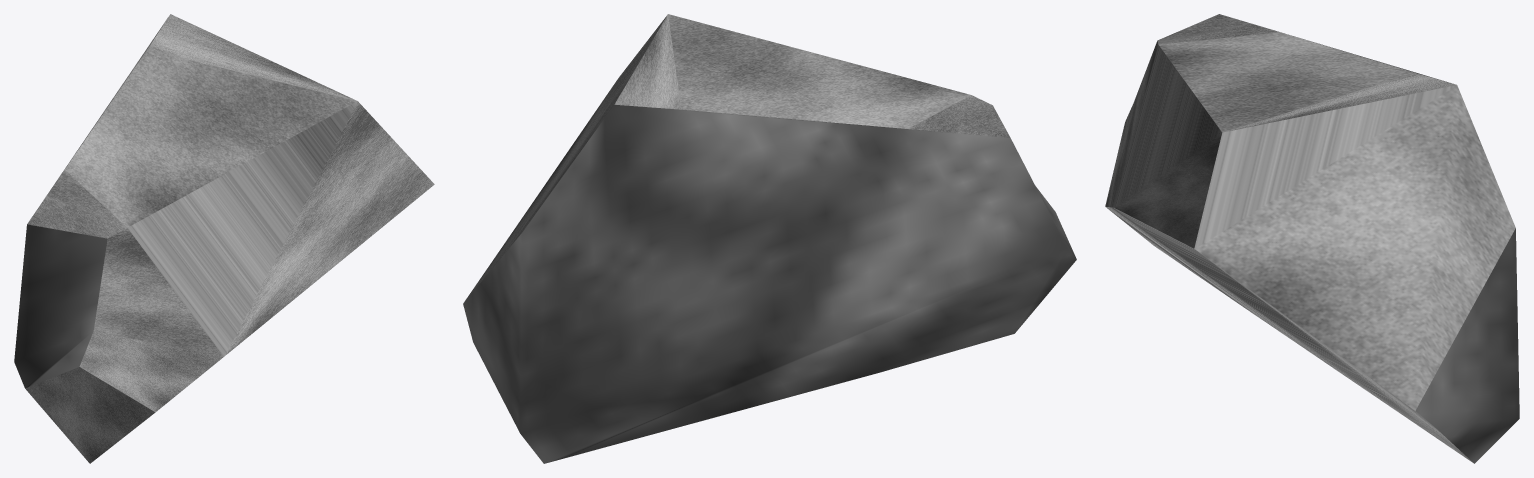
File: tail_cell_003.fbx
3 renders of one model, left to right at view 1: azimuth 30°, elevation 25°; view 2: azimuth 150°, elevation 25°; view 3: azimuth 270°, elevation 25°, orthographic. The views are drawn at different scales.
Parts seen in each view (by area): view 1: tail_cell.003; view 2: tail_cell.003; view 3: tail_cell.003.
Boxes of the visible parts, bbox=[...] form: tail_cell.003: bbox=[14, 14, 434, 463]; tail_cell.003: bbox=[463, 14, 1076, 463]; tail_cell.003: bbox=[1105, 14, 1519, 463].
Bounding box in the file's own units: 49.49 × 36.22 × 38.82.
